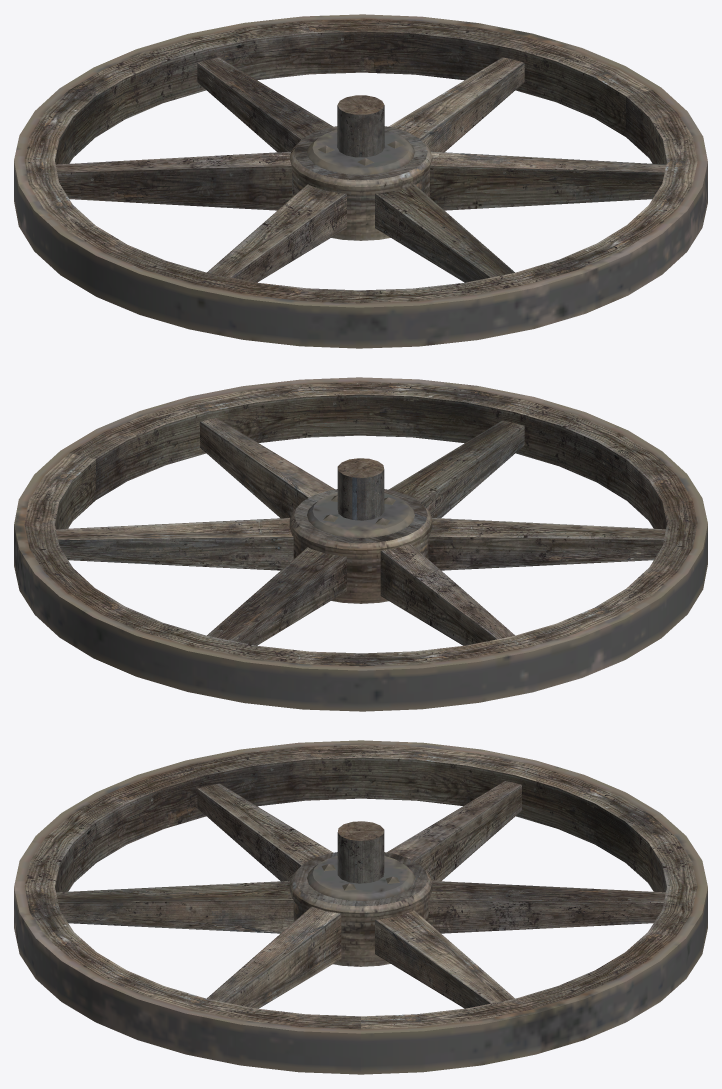
The model's file is SM_WagonWheel01.FBX.
3 renders of one model, top to bottom at view 1: azimuth 30°, elevation 25°; view 2: azimuth 150°, elevation 25°; view 3: azimuth 270°, elevation 25°, orthographic.
Parts seen in each view (by area): view 1: SM_WagonWheel01; view 2: SM_WagonWheel01; view 3: SM_WagonWheel01.
Part boxes in pixels (<box>): SM_WagonWheel01: <box>14,14,707,348</box>; SM_WagonWheel01: <box>14,377,707,711</box>; SM_WagonWheel01: <box>14,740,707,1074</box>.
Bounding box in the file's own units: 120 × 20.16 × 120.
